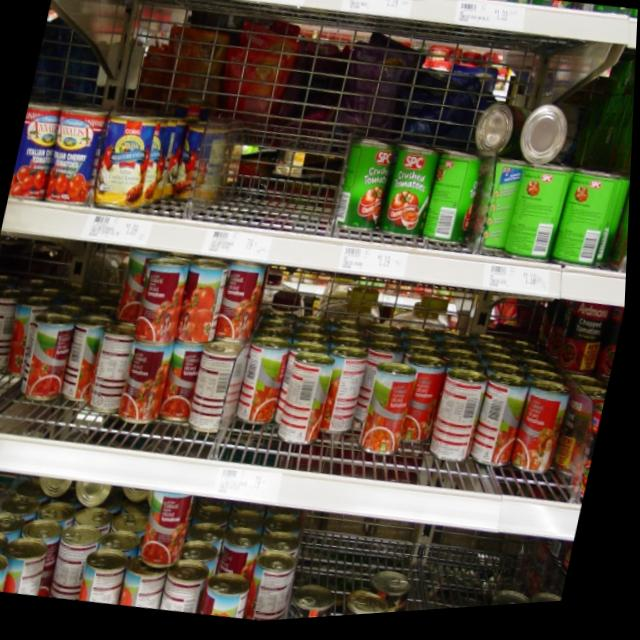q193: (505, 166, 577, 274), (326, 136, 398, 242), (556, 179, 628, 278), (426, 162, 484, 257), (386, 152, 438, 242)
